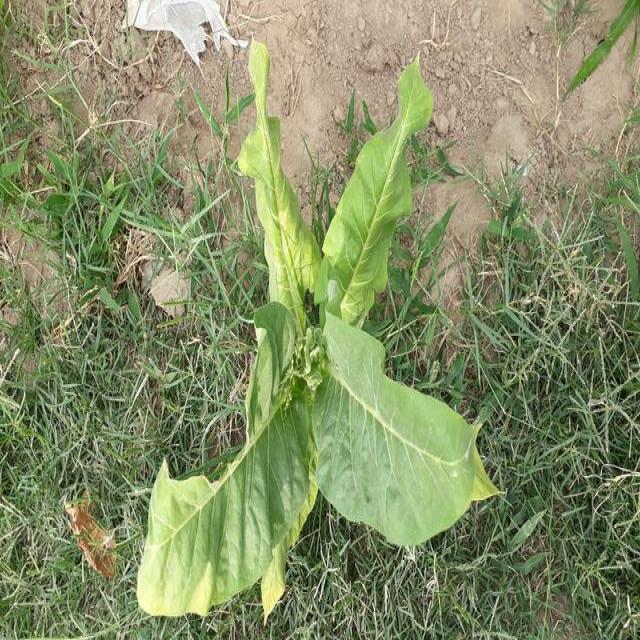crop: (126, 51, 497, 630)
